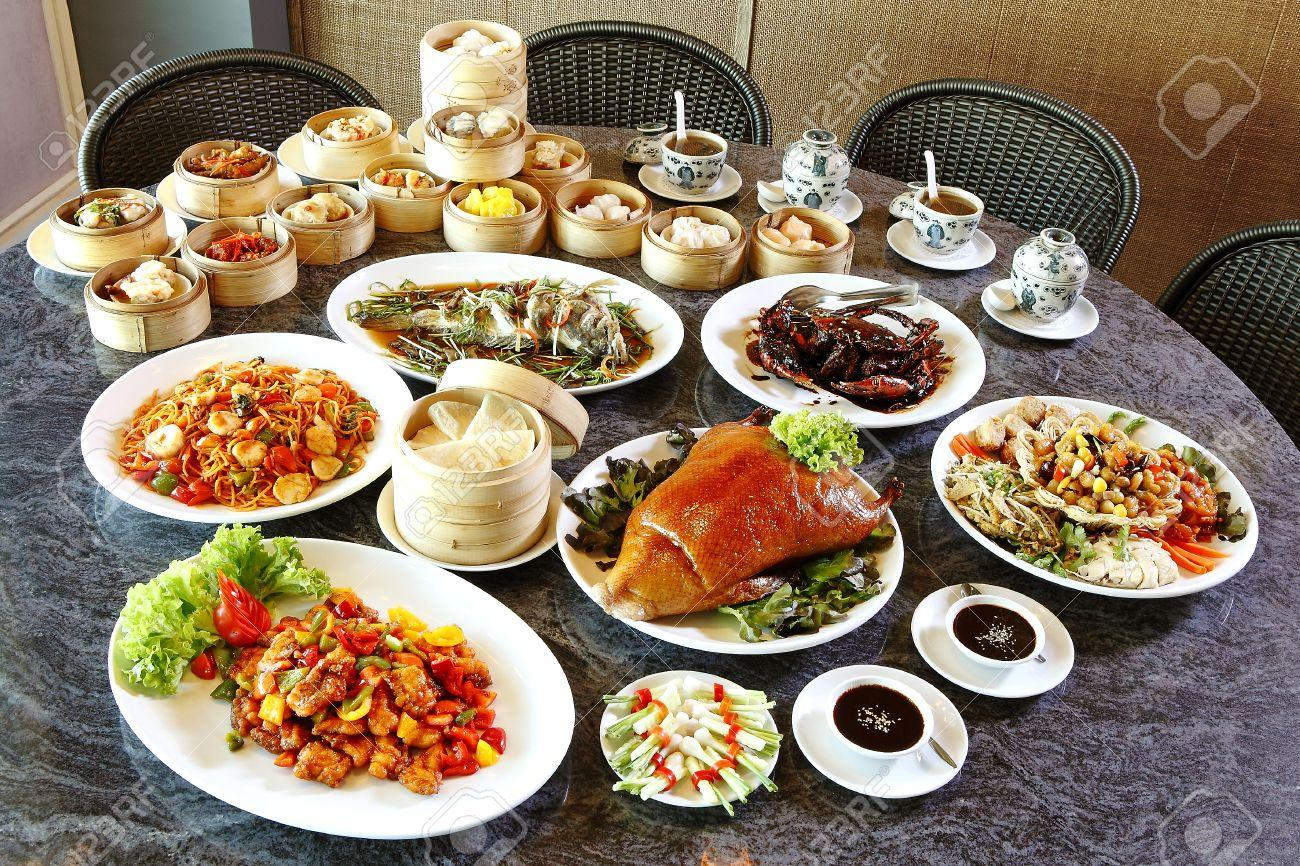Braised Crucian Carp: (108, 551, 578, 845), (924, 398, 1267, 600), (566, 434, 896, 638), (76, 333, 412, 515), (319, 248, 655, 390), (725, 267, 955, 412)
